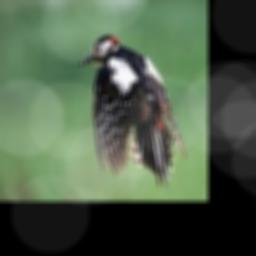Woodpecker: (78, 35, 185, 189)
